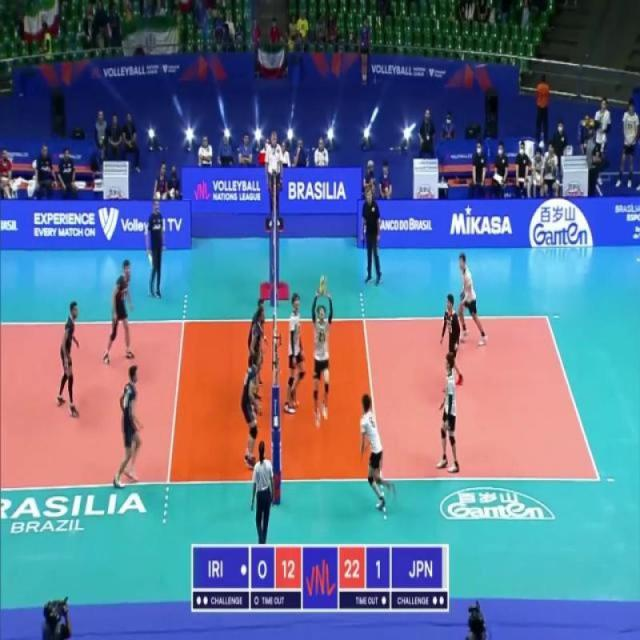volleyball: (318, 270, 331, 296)
